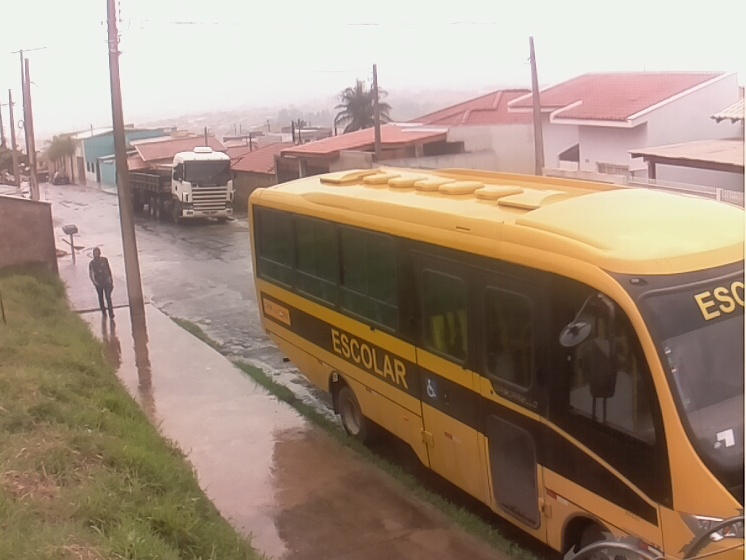person: (86, 247, 120, 322)
